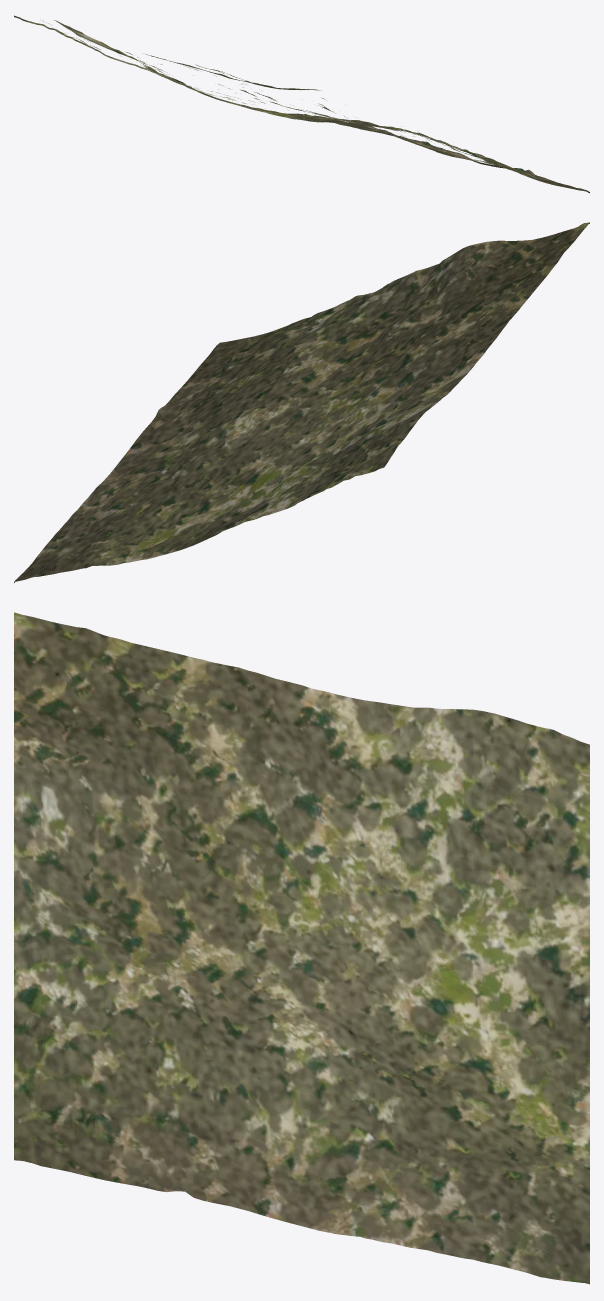
3 views of the same model, one above another, from view 1: azimuth 30°, elevation 25°; view 2: azimuth 150°, elevation 25°; view 3: azimuth 270°, elevation 25° (orthographic). The views are drawn at different scales.
Size of the model in its own units: 250 by 194 by 241.
Materials: 1 (1 with a texture image).
